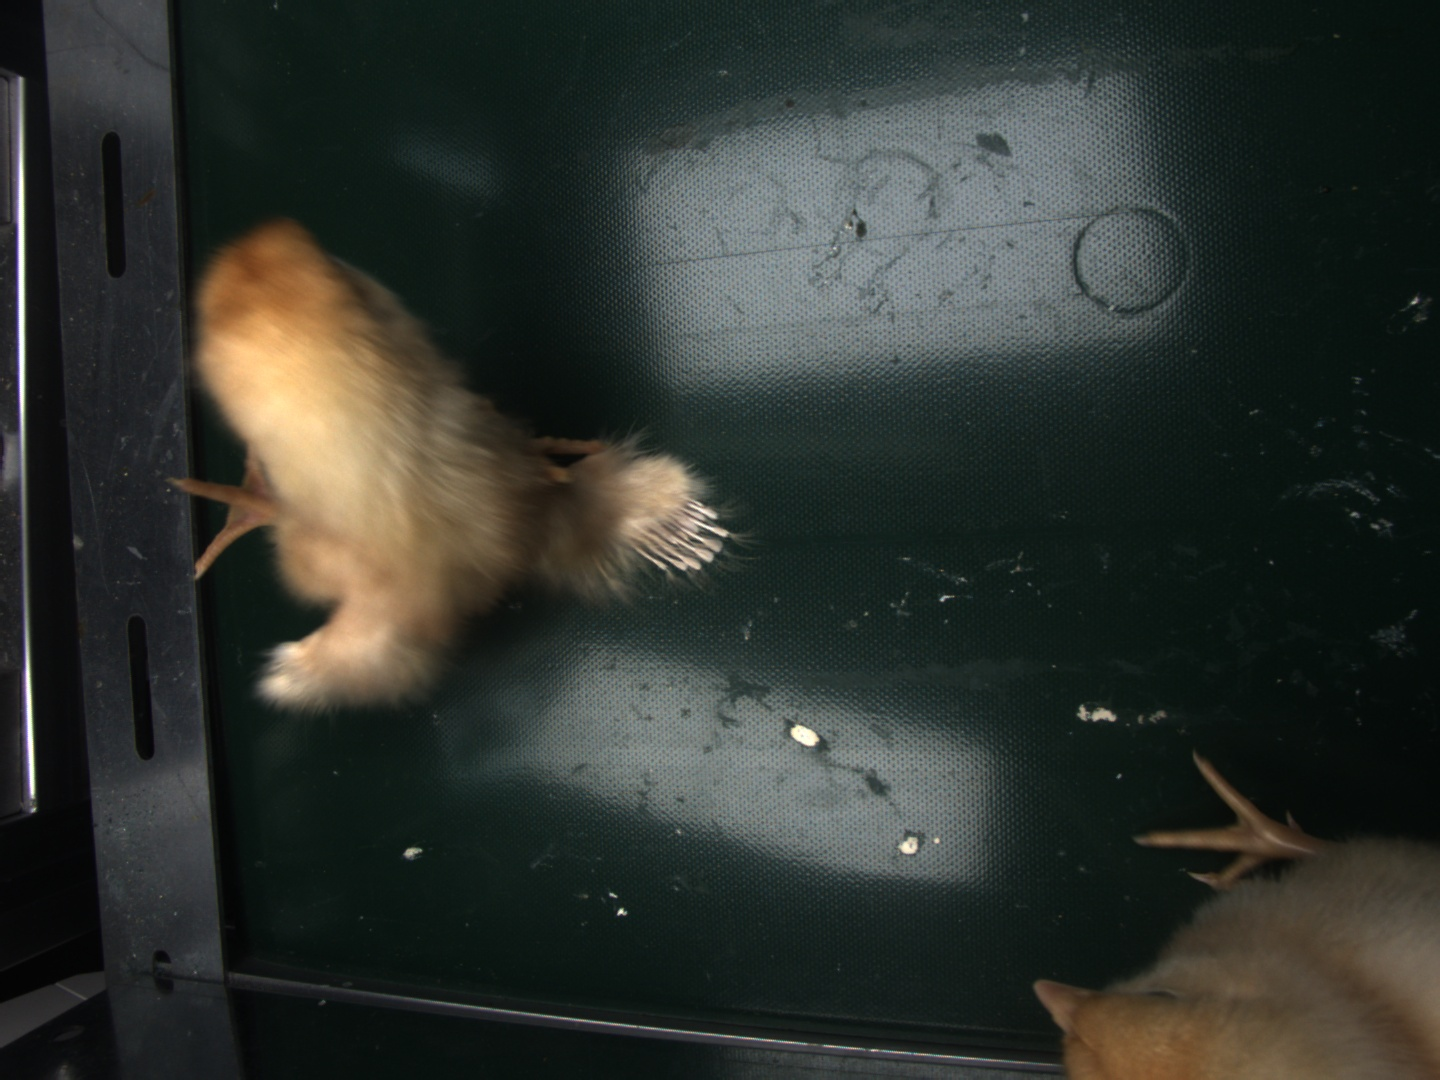female: (637, 498, 730, 571)
